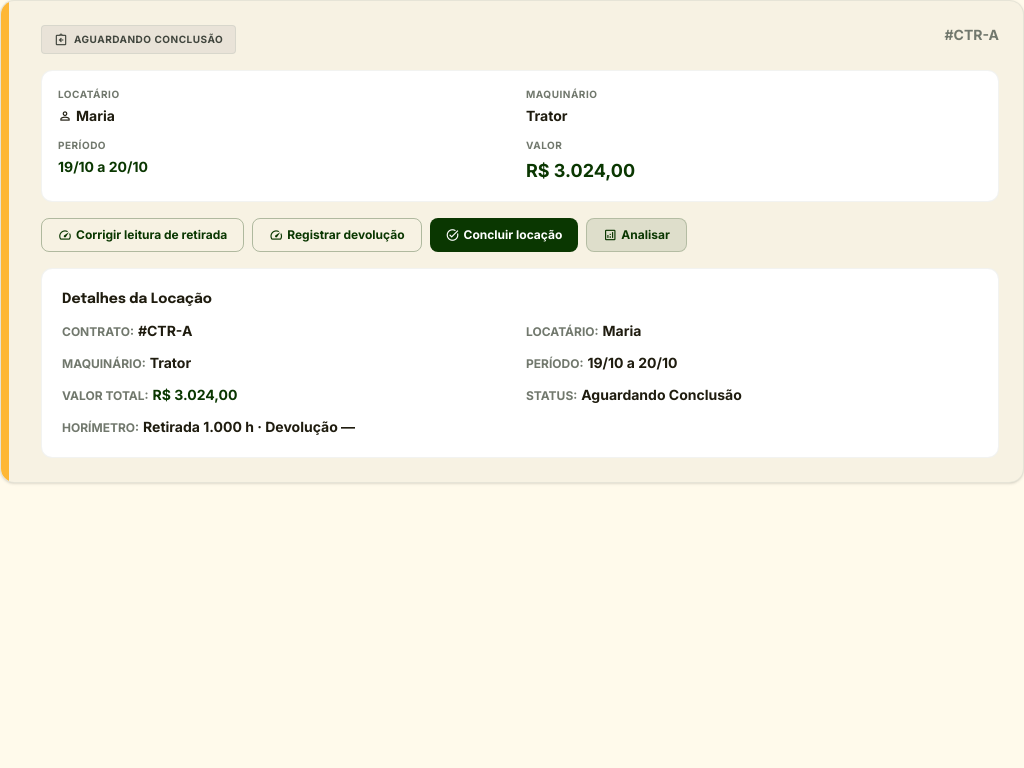
owner meter actions › validates and records a reading with a note
The width and height of the screenshot is (1024, 768).
Click the button "Registrar devolução": (337, 235) x1=252 y1=218 x2=422 y2=252
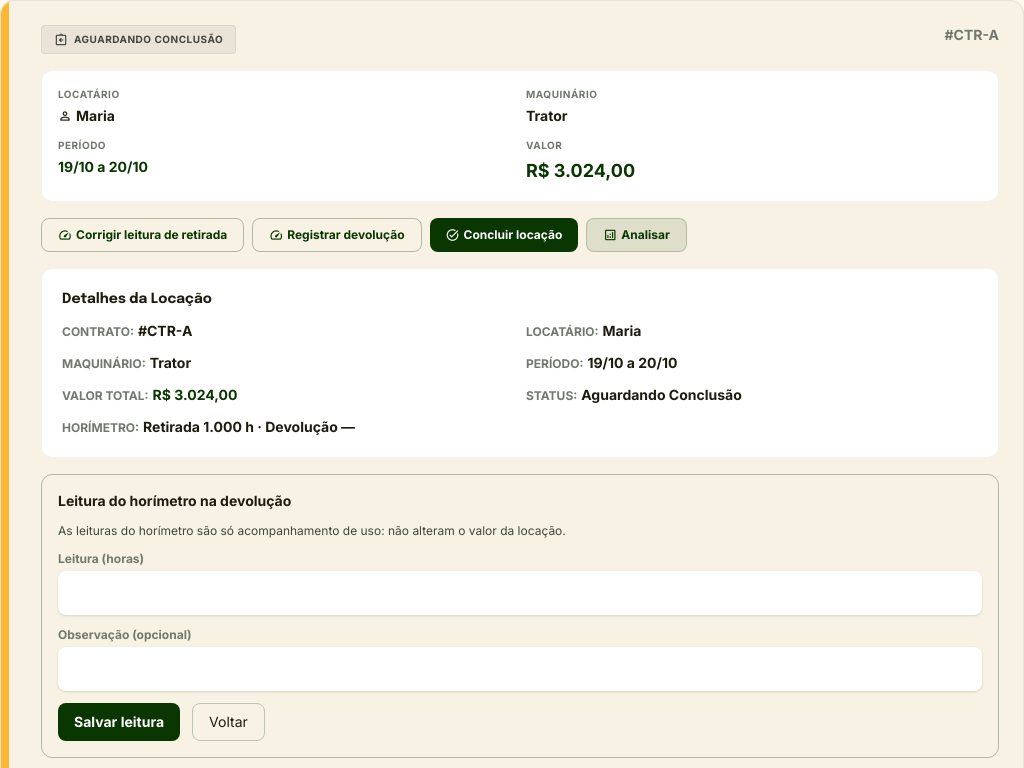
Result: the text "não alteram o valor da locação" is shown at x1=58 y1=523 x2=566 y2=538
In the number field labelled "Leitura (horas)": (520, 593) x1=58 y1=571 x2=982 y2=615, type "12.5"
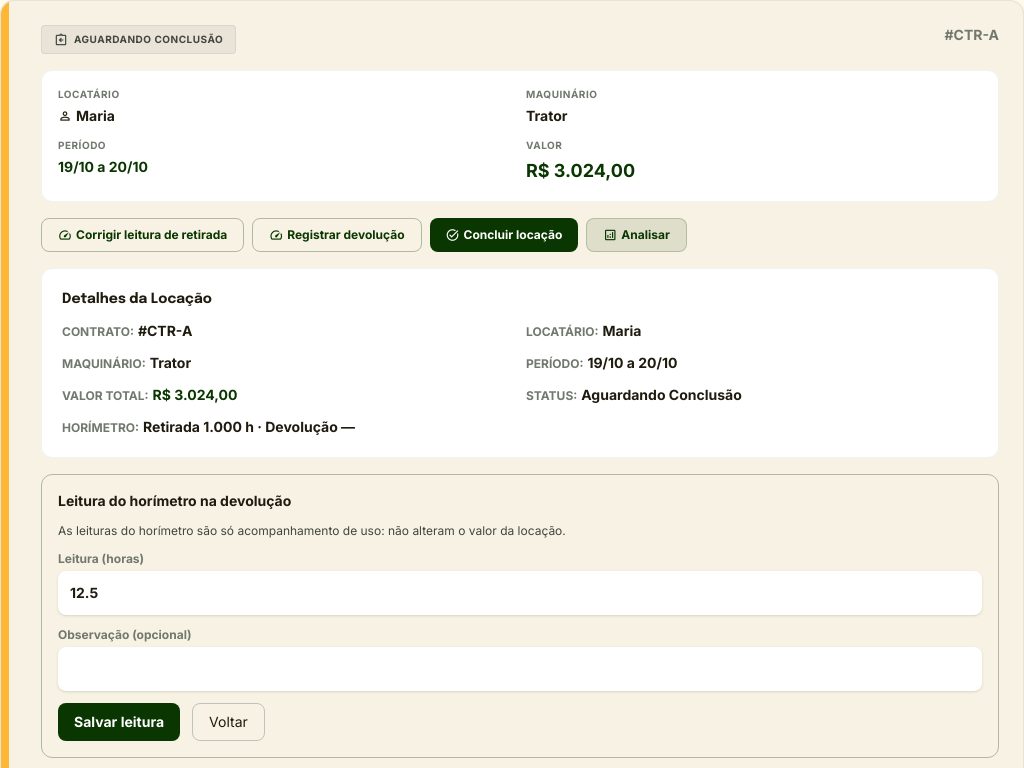
Click the button "Salvar leitura": (119, 722) x1=58 y1=703 x2=180 y2=741
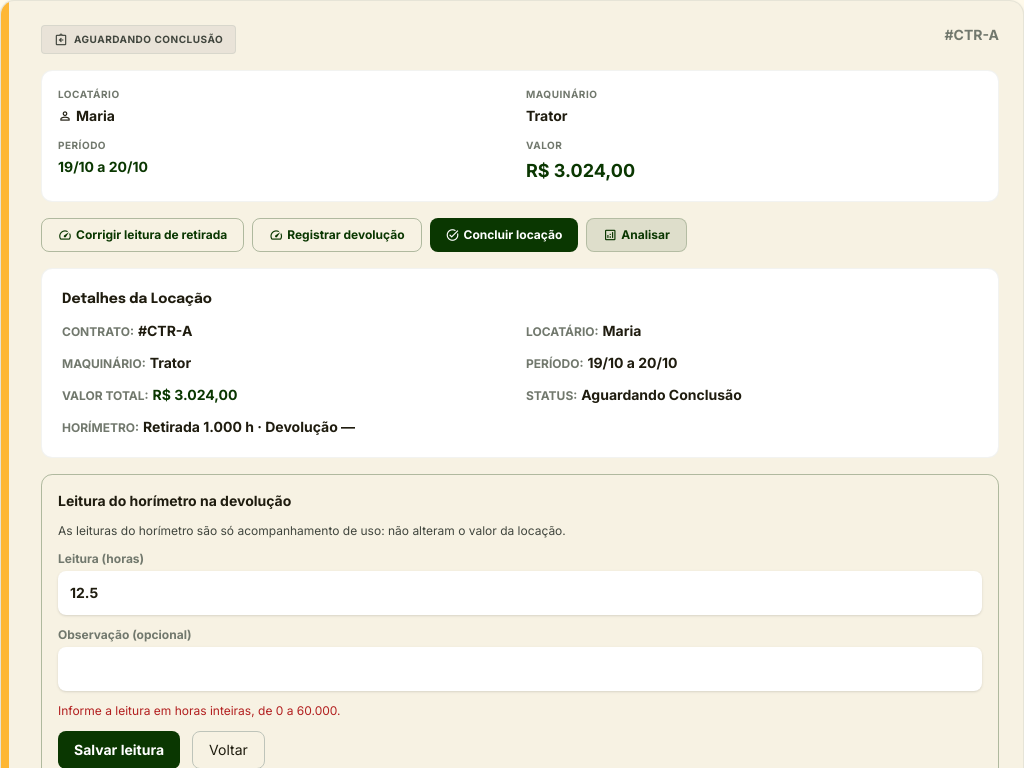
Result: the message shows "horas inteiras" at x1=58 y1=703 x2=340 y2=718
Replace the text in the number field labelled "Leitura (horas)" with "1250": (520, 593) x1=58 y1=571 x2=982 y2=615
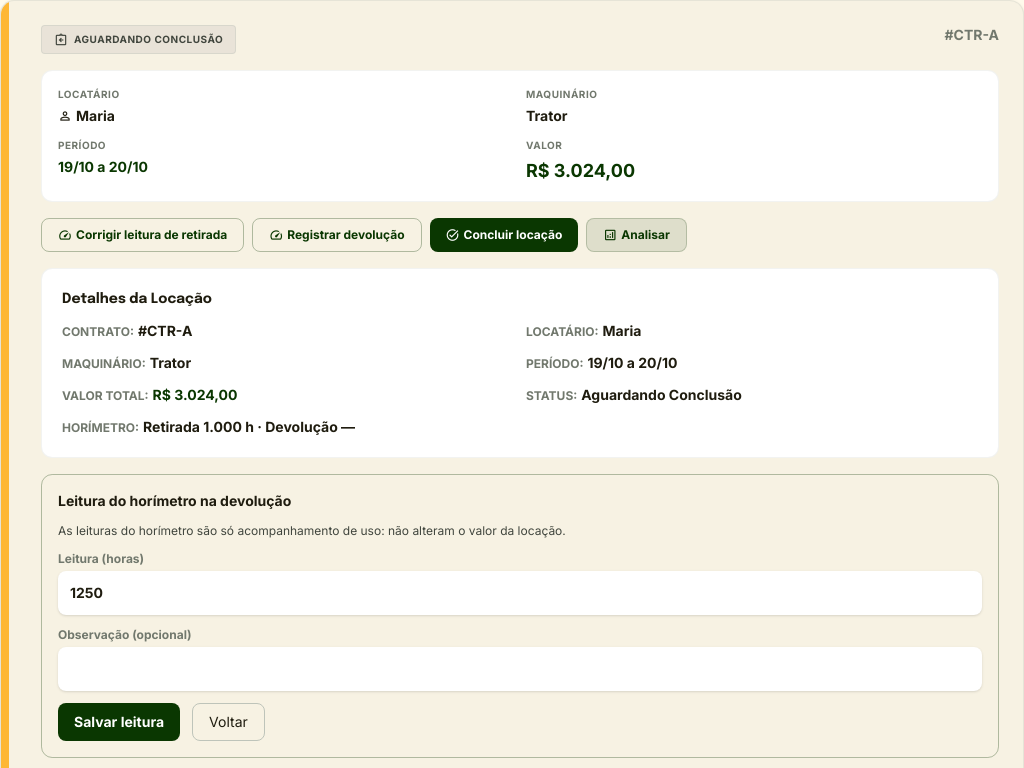
In the field labelled "Observação (opcional)": (520, 669) x1=58 y1=647 x2=982 y2=691, type " painel ok "
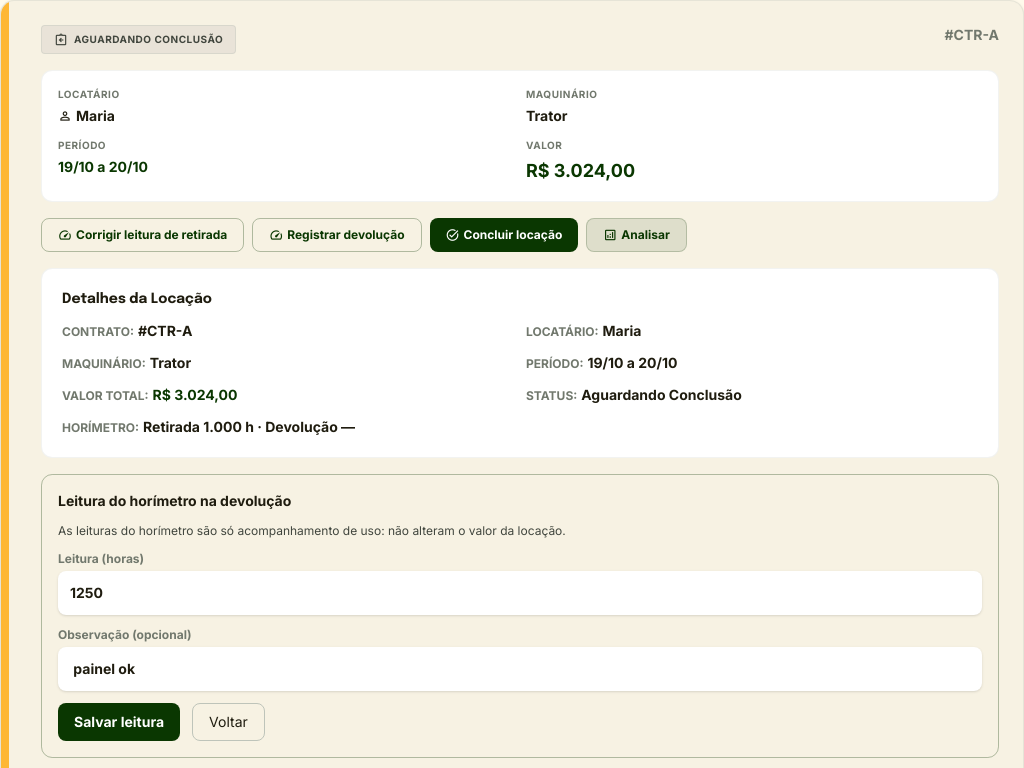
Click the button "Salvar leitura": (119, 722) x1=58 y1=703 x2=180 y2=741
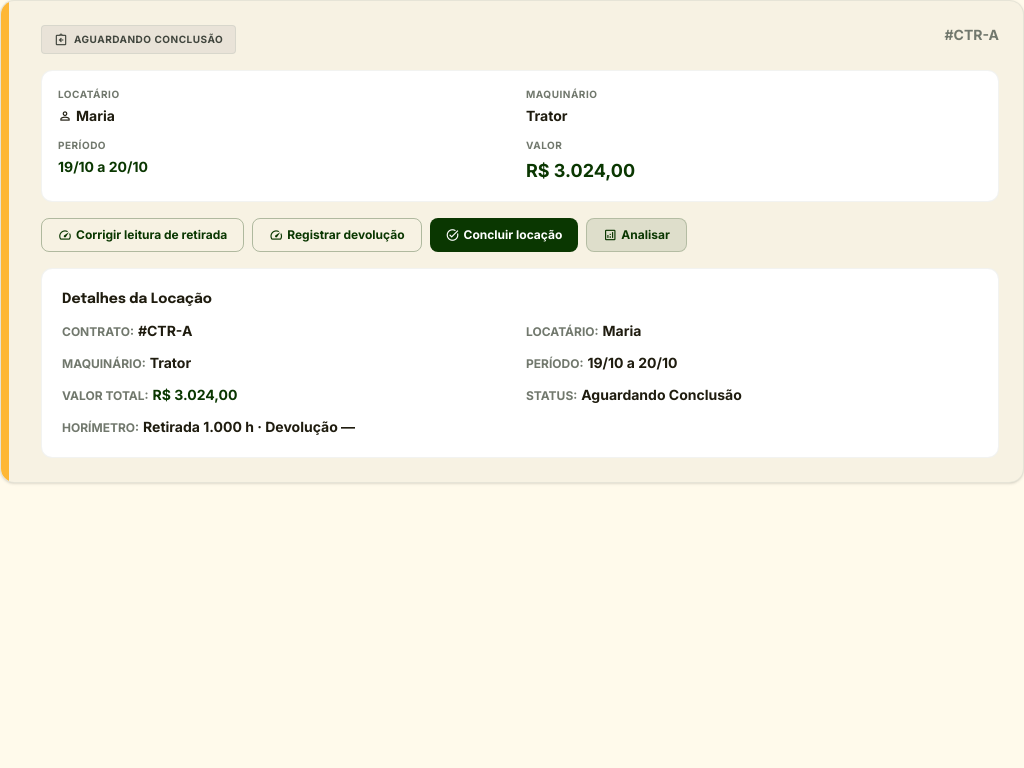
Result: the button "Salvar leitura" is gone
